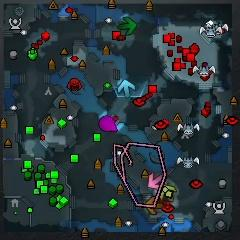p3: (100, 115, 118, 132)
x1: (148, 172, 164, 189)
x2: (160, 184, 176, 202)
x3: (117, 80, 136, 98)
x4: (118, 17, 136, 35)
x5: (146, 196, 163, 214)
